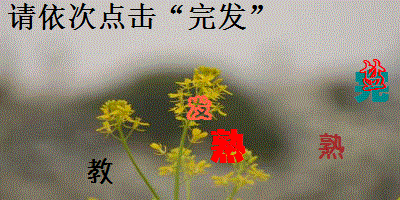result: (185, 1, 249, 32)
text: (208, 127, 247, 166), (351, 66, 391, 104), (358, 58, 387, 93), (316, 130, 347, 162), (84, 157, 115, 187), (184, 93, 214, 121)
